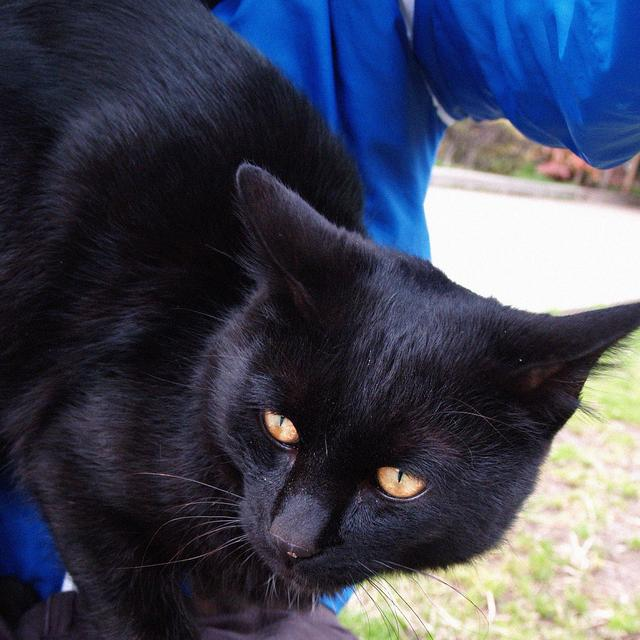animals: (241, 163, 640, 561)
